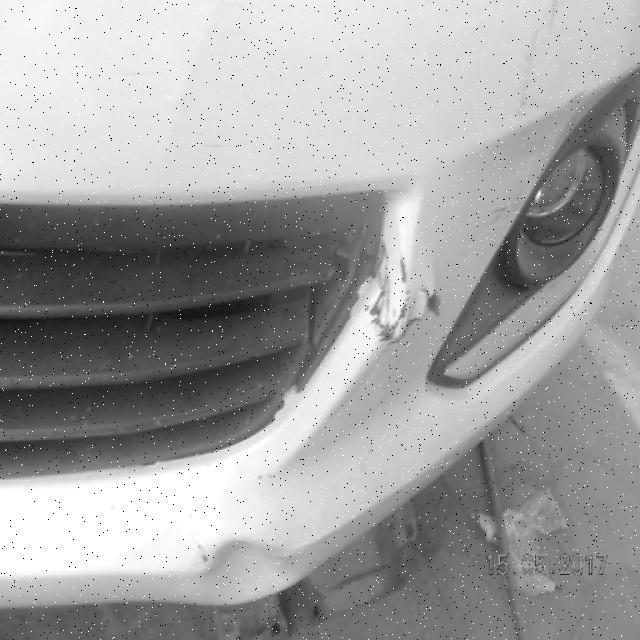car damage: (158, 1, 233, 160), (517, 0, 588, 116), (203, 534, 304, 606), (115, 520, 210, 583), (361, 244, 409, 357), (406, 282, 444, 331), (488, 199, 521, 234)
